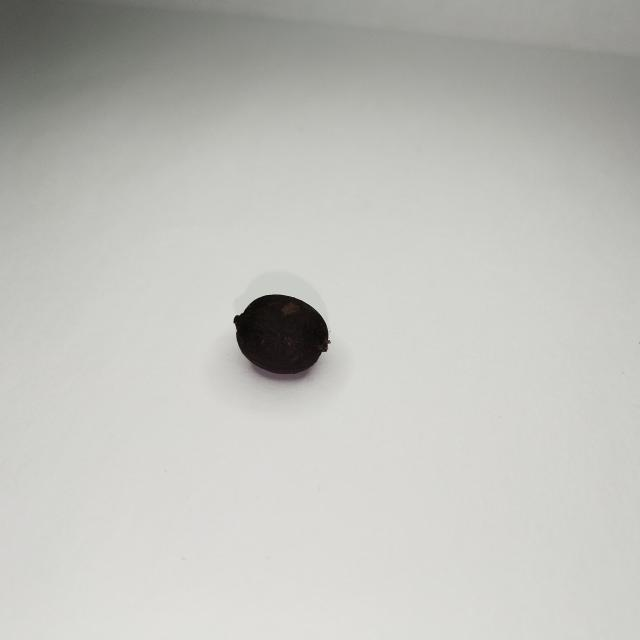Danado: (235, 295, 328, 376)
